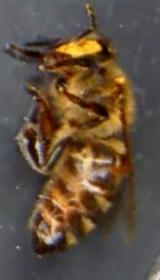varroa_mite: (100, 151, 135, 176)
